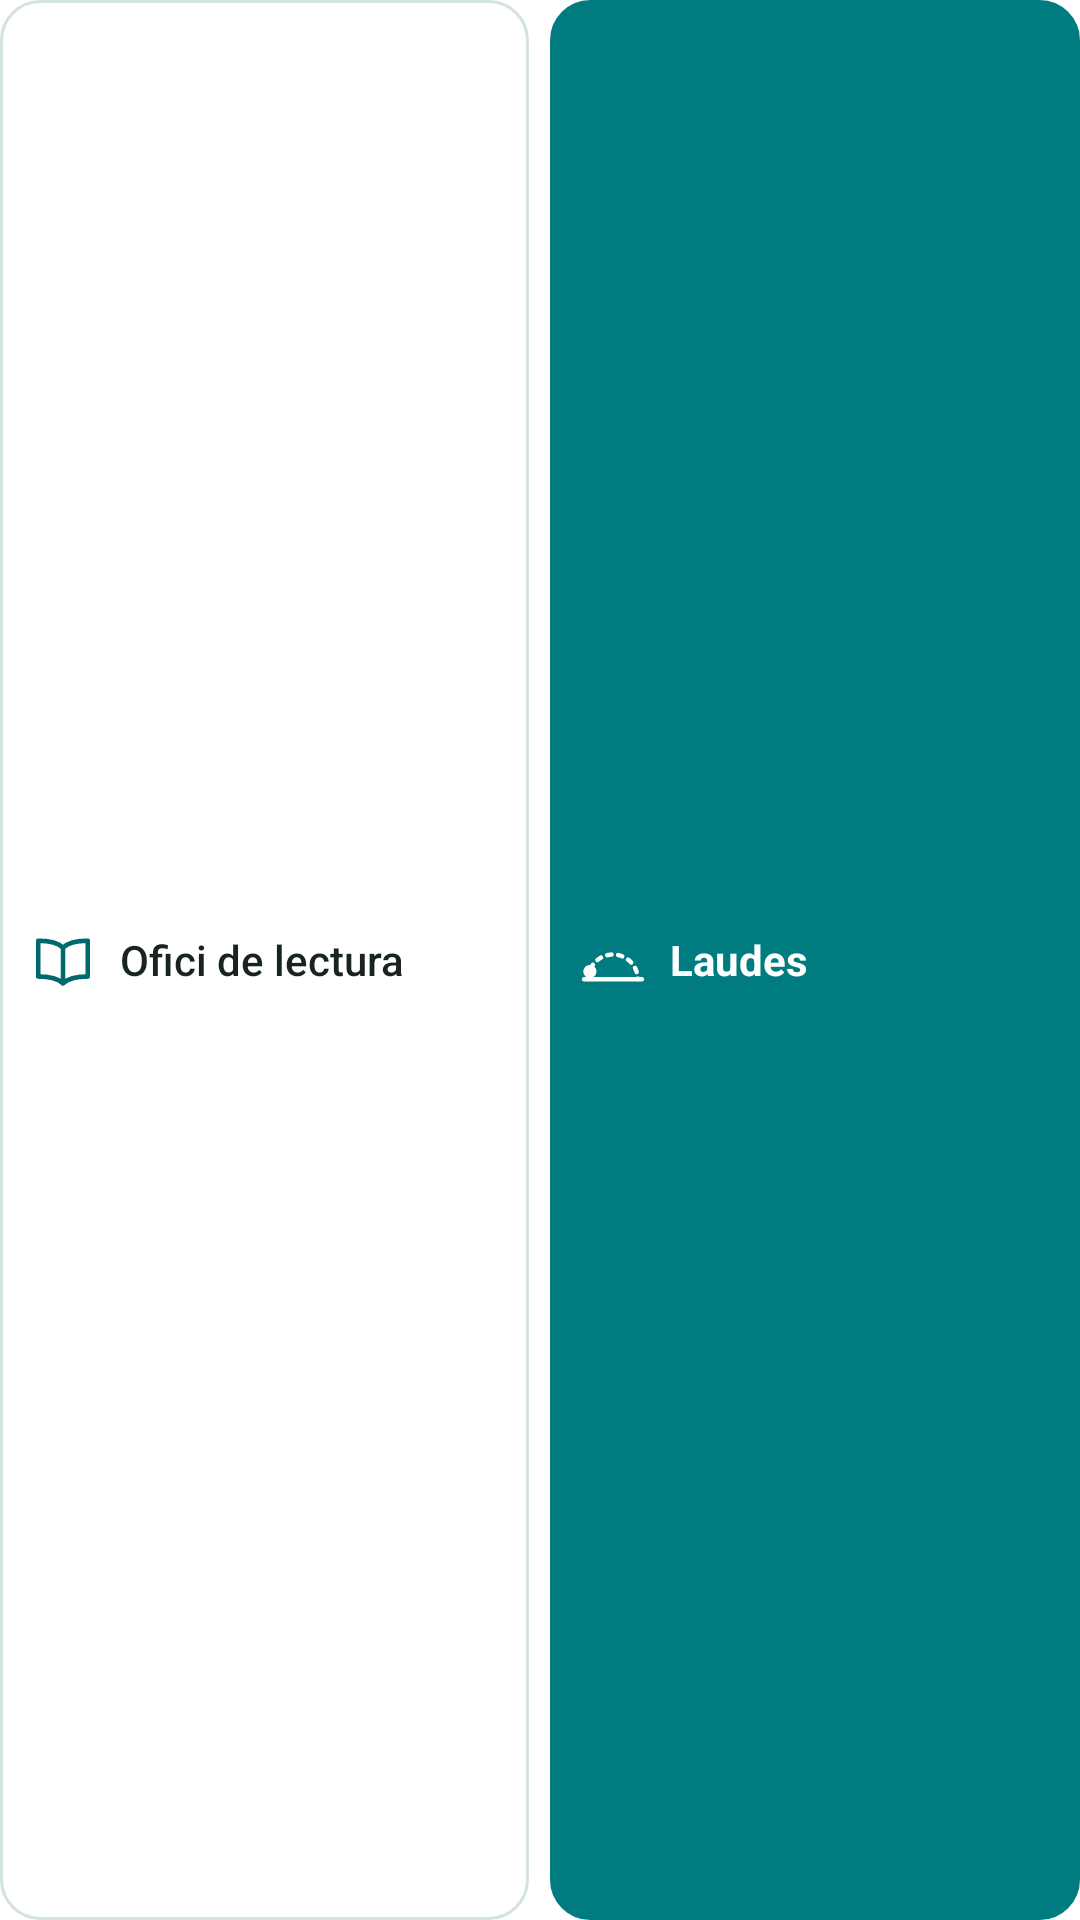

Screen size 1080px×1920px. Icon name, then its center in pixels as (x,y):
hour ofici: (63,962)
